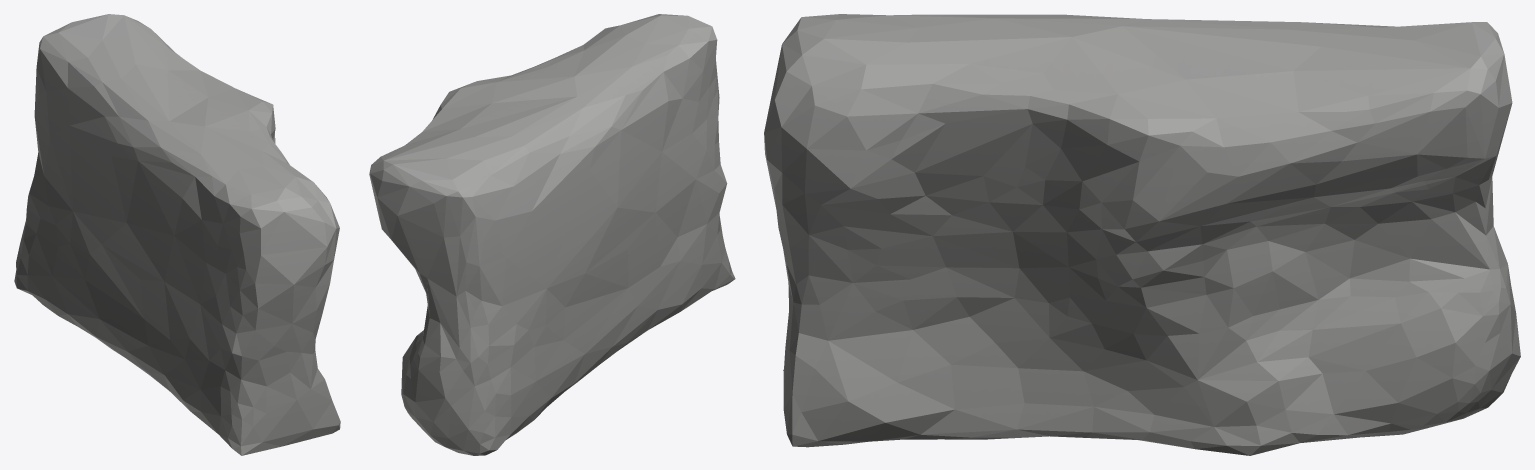
The model's file is Cavern_Wall_Med-04.fbx.
3 renders of one model, left to right at view 1: azimuth 30°, elevation 25°; view 2: azimuth 150°, elevation 25°; view 3: azimuth 270°, elevation 25°, orthographic. The views are drawn at different scales.
Parts seen in each view (by area): view 1: Cavern_Wall_Med-04; view 2: Cavern_Wall_Med-04; view 3: Cavern_Wall_Med-04.
Part boxes in pixels (x1,y1,x2,y2): Cavern_Wall_Med-04: (14,14,340,455); Cavern_Wall_Med-04: (369,14,735,455); Cavern_Wall_Med-04: (764,14,1520,455).
Bounding box in the file's own units: 721 × 1138 × 1984.
1 material, 1 textured.
